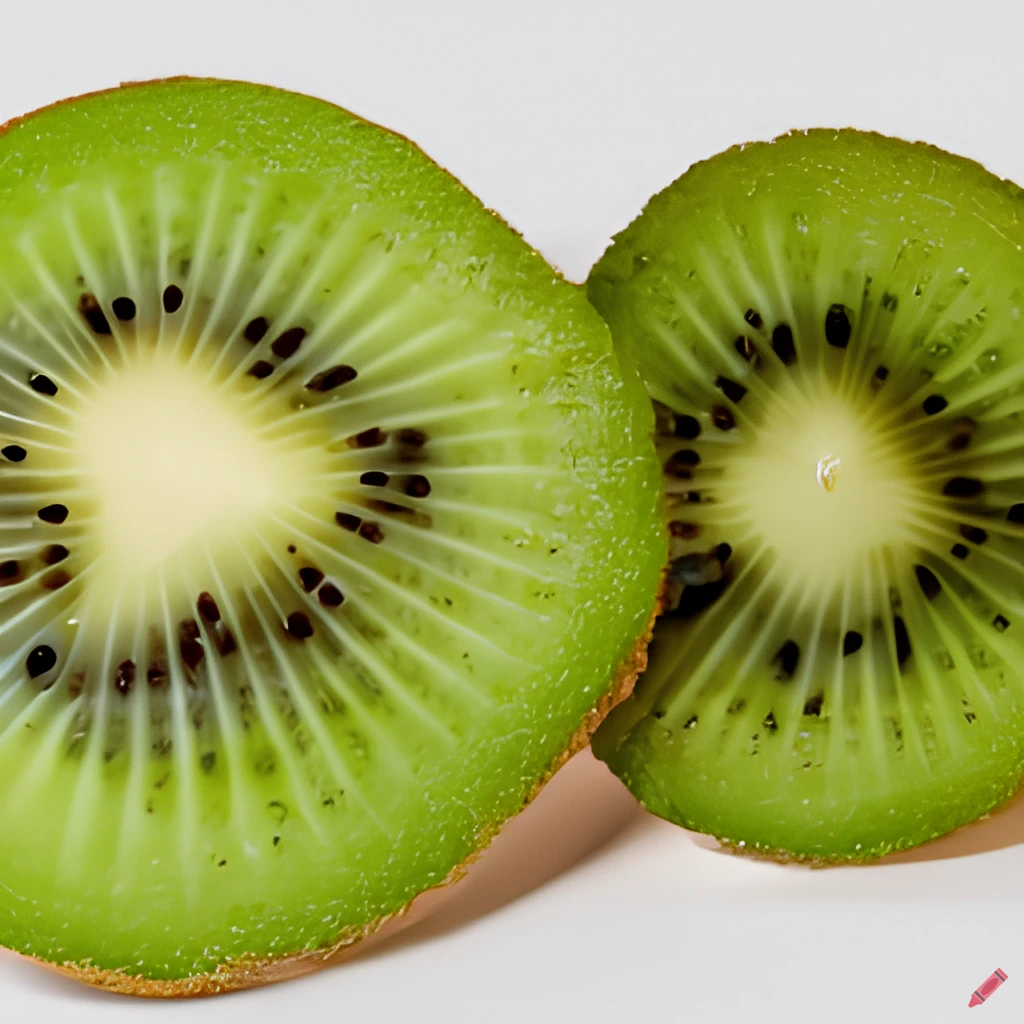Kiwi: (0, 70, 638, 1003), (577, 109, 1024, 854)
